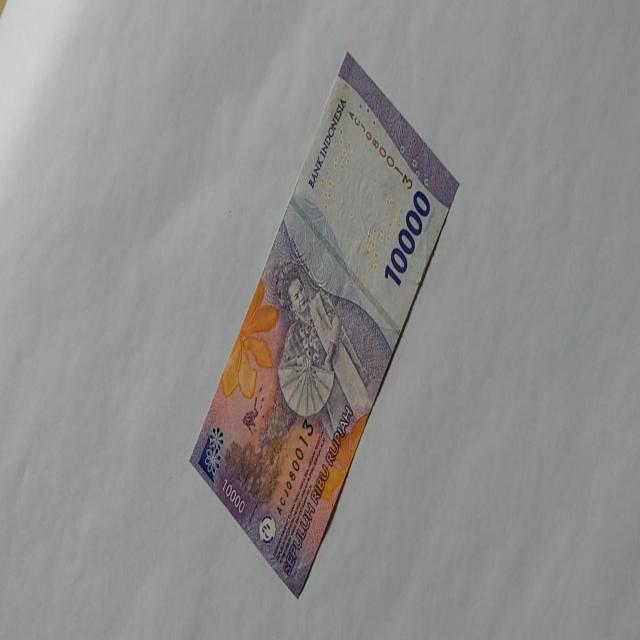sepuluh ribu rupiah: (188, 49, 460, 598)
